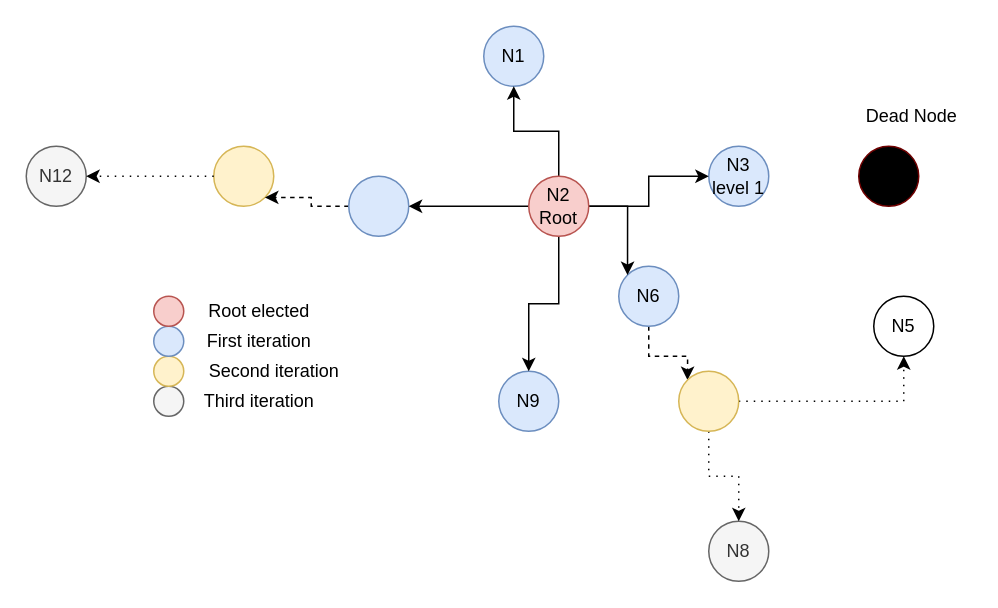
Image size: 998x608. Some labels were removed from this diagram. The centre of each missing label's shape, as x and y in pixels:
"N10" goes at [378,205].
"N11" goes at [243,175].
"N4 level 2" goes at [888,175].
"N7" goes at [708,400].
